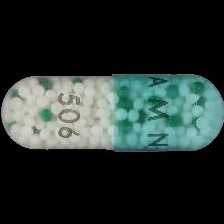49999-371: (0, 0, 224, 224)
